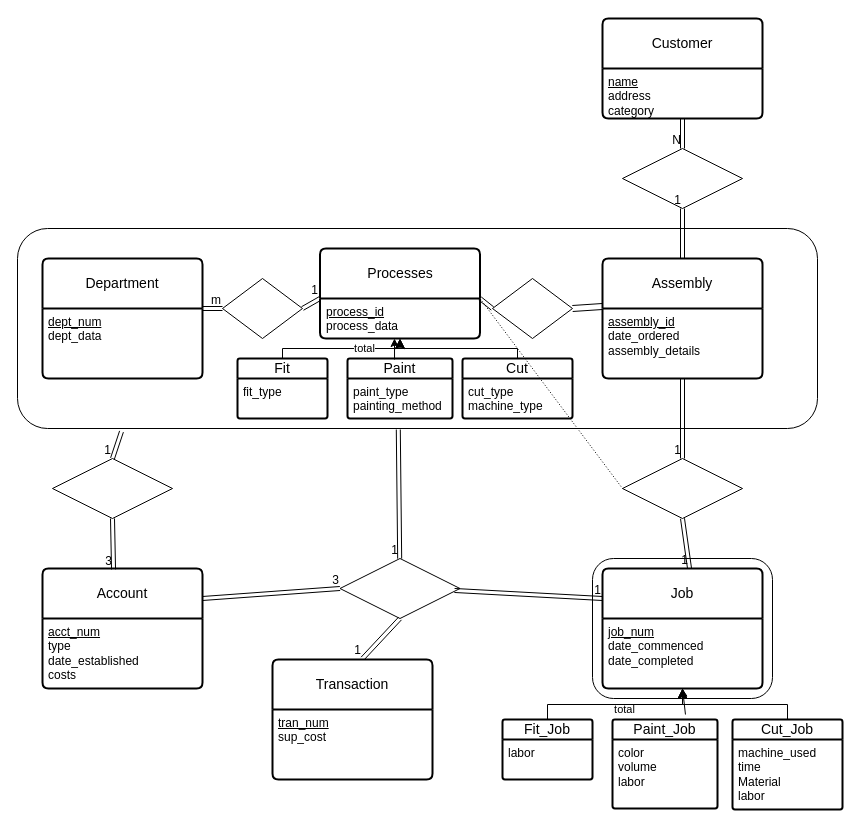
This 861x827 diagram has some shape labels left out. Here are the shapes that lost their labels. From the top down, the centre of each, then its label:
At (x=682, y=178): "Order".
At (x=262, y=308): "Supervise".
At (x=532, y=308): "Manufacture".
At (x=112, y=488): "Maintain".
At (x=682, y=488): "Assign".
At (x=399, y=588): "Cost".
